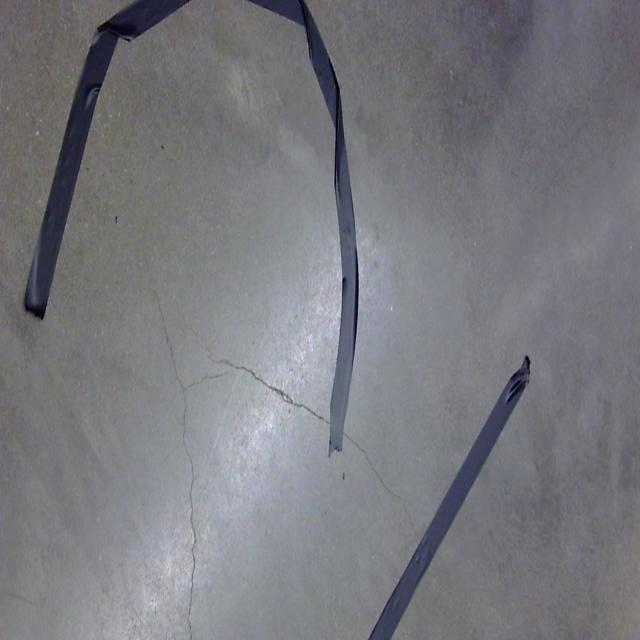tape: (16, 0, 378, 473), (324, 336, 556, 640)
